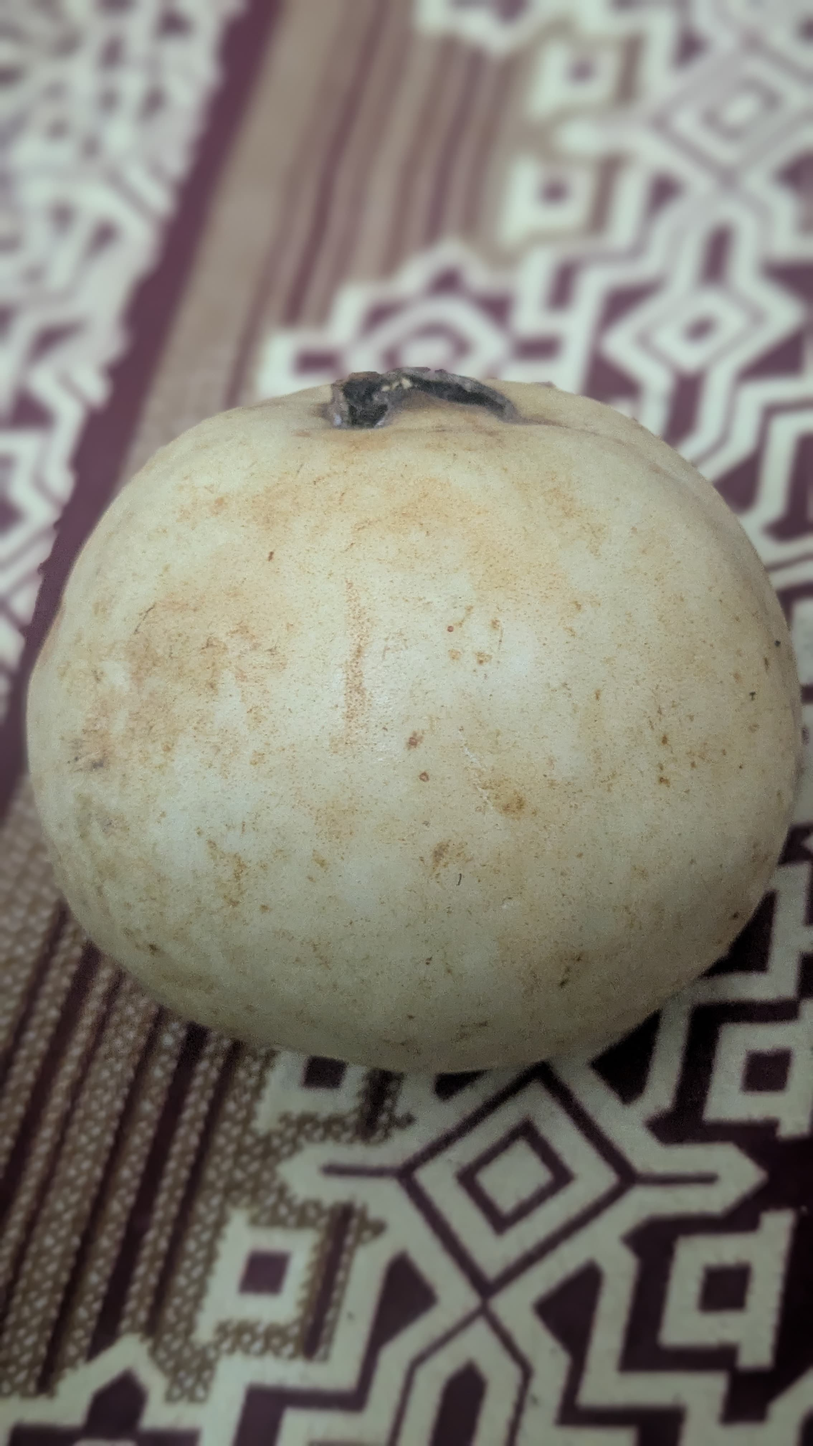guava: (157, 286, 726, 1317)
